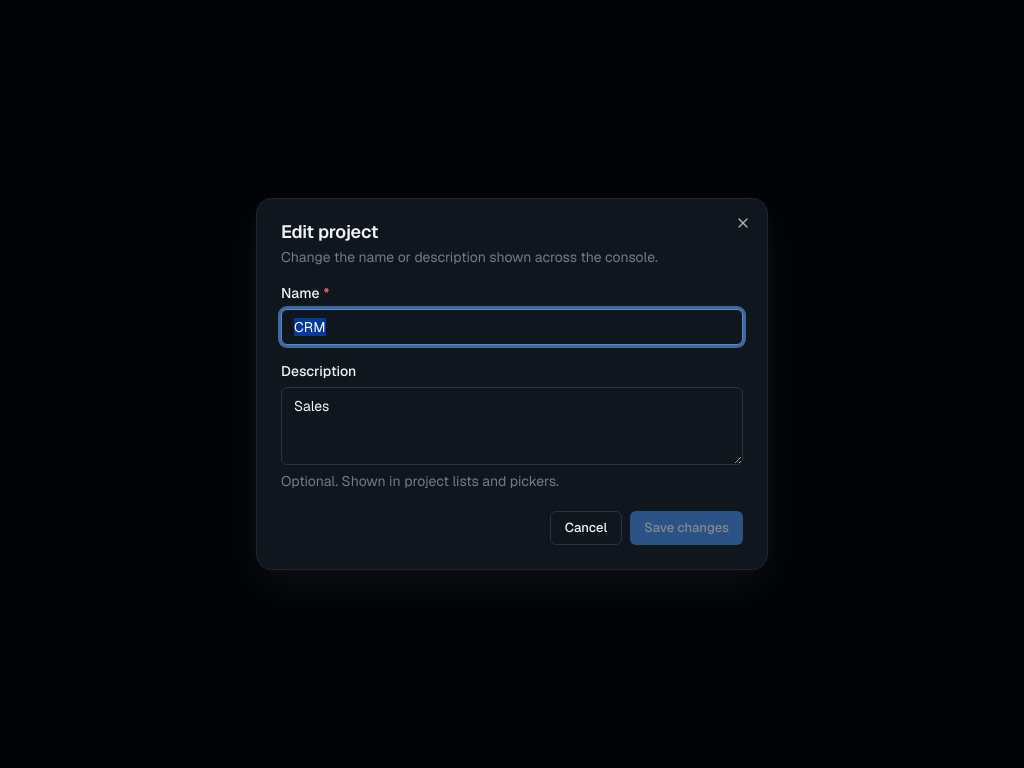
Test case: ProjectFormModal (edit) › explains that clearing the description keeps it, and does not count it as a change
This screenshot has width=1024, height=768.
Clear the text box labelled "Description" at (512, 426), box [281, 387, 743, 465]
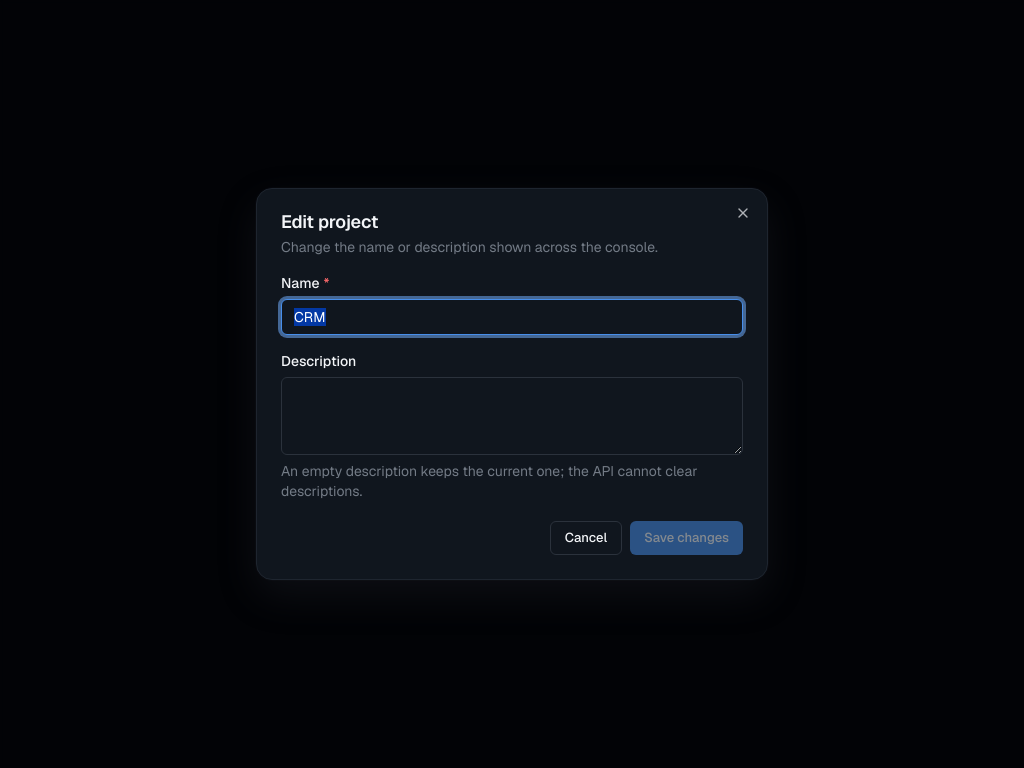
expect the button "Save changes" is disabled: met, box [630, 521, 743, 555]
expect the text "cannot clear descriptions" is shown: met, box [281, 462, 698, 500]
